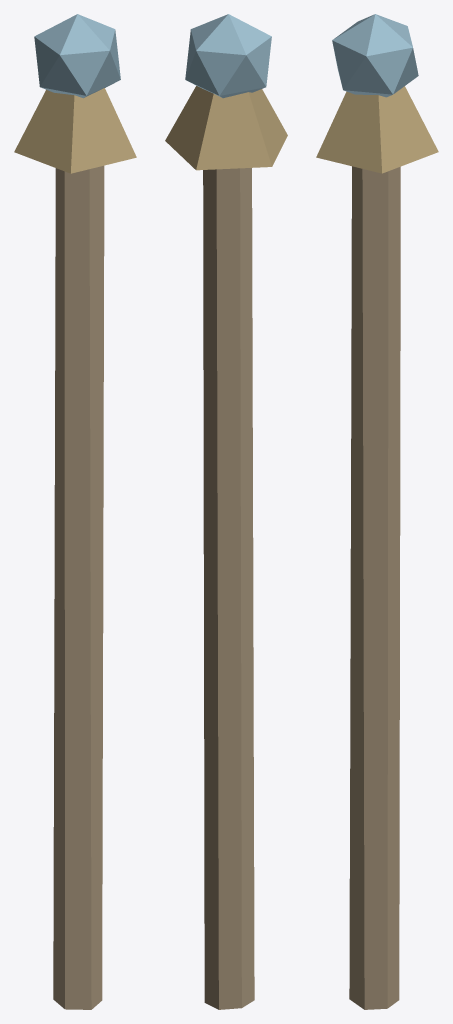
Rendered from staff.glb.
The picture shows the model from 3 angles, left to right: view 1: azimuth 30°, elevation 25°; view 2: azimuth 150°, elevation 25°; view 3: azimuth 330°, elevation 25°; orthographic projection.
Parts seen in each view (by area): view 1: staff; view 2: staff; view 3: staff.
Part boxes in pixels (x1=…): staff: x1=14, y1=14, x2=136, y2=1009; staff: x1=165, y1=14, x2=287, y2=1009; staff: x1=316, y1=14, x2=438, y2=1009.
Size of the model in its own units: 0.1522 by 1.34 by 0.1447.
